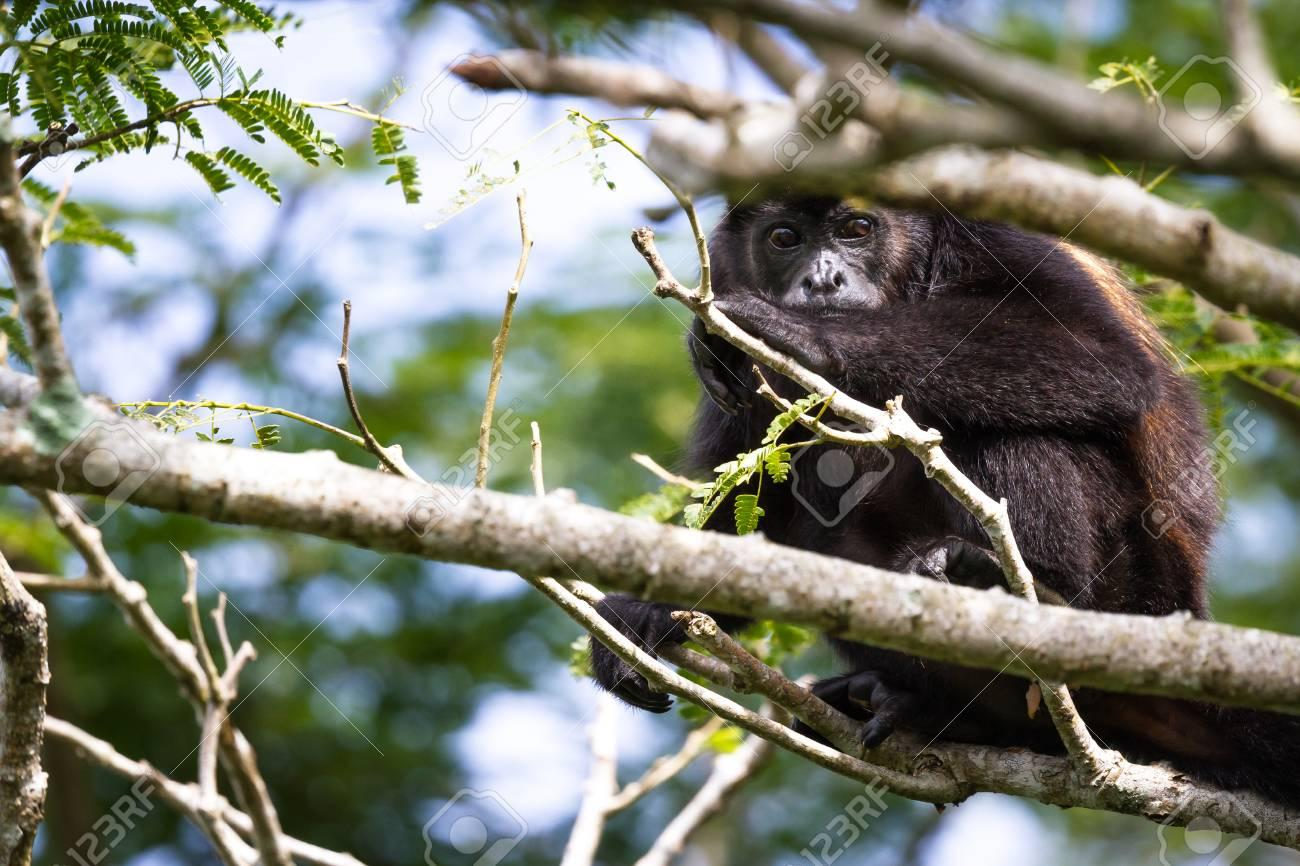monkey: (651, 198, 1226, 623)
